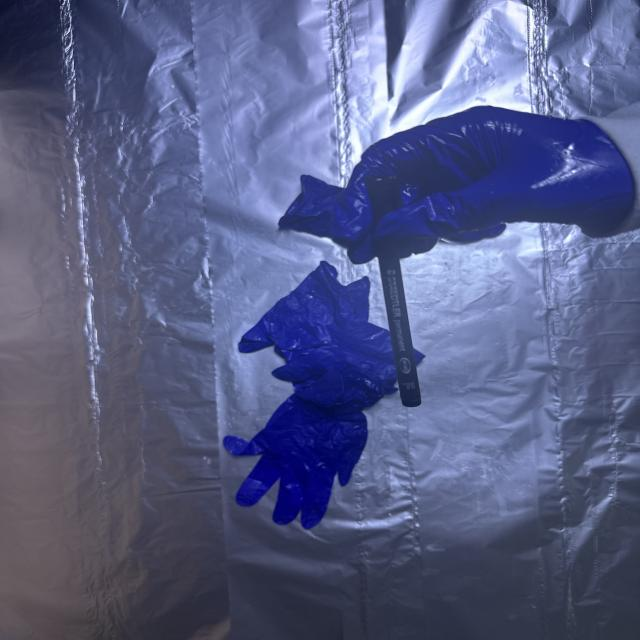gloves_contaminated: (328, 106, 634, 264)
